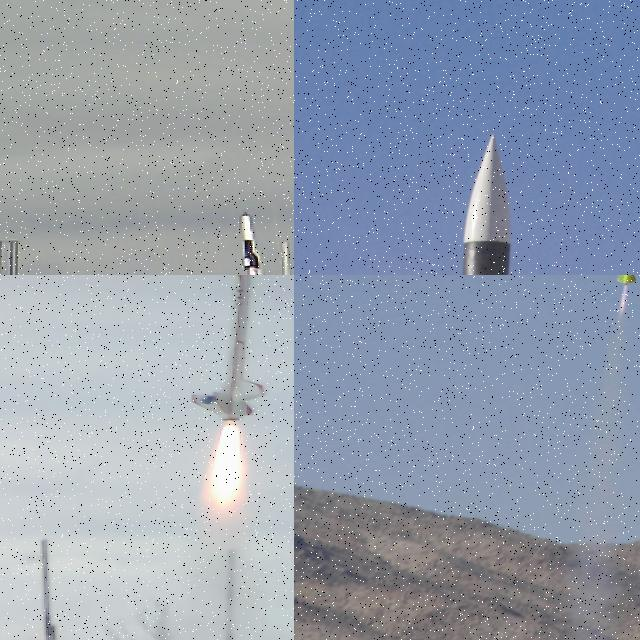Rocket: (402, 132, 533, 275), (189, 275, 265, 421), (237, 210, 260, 270)
